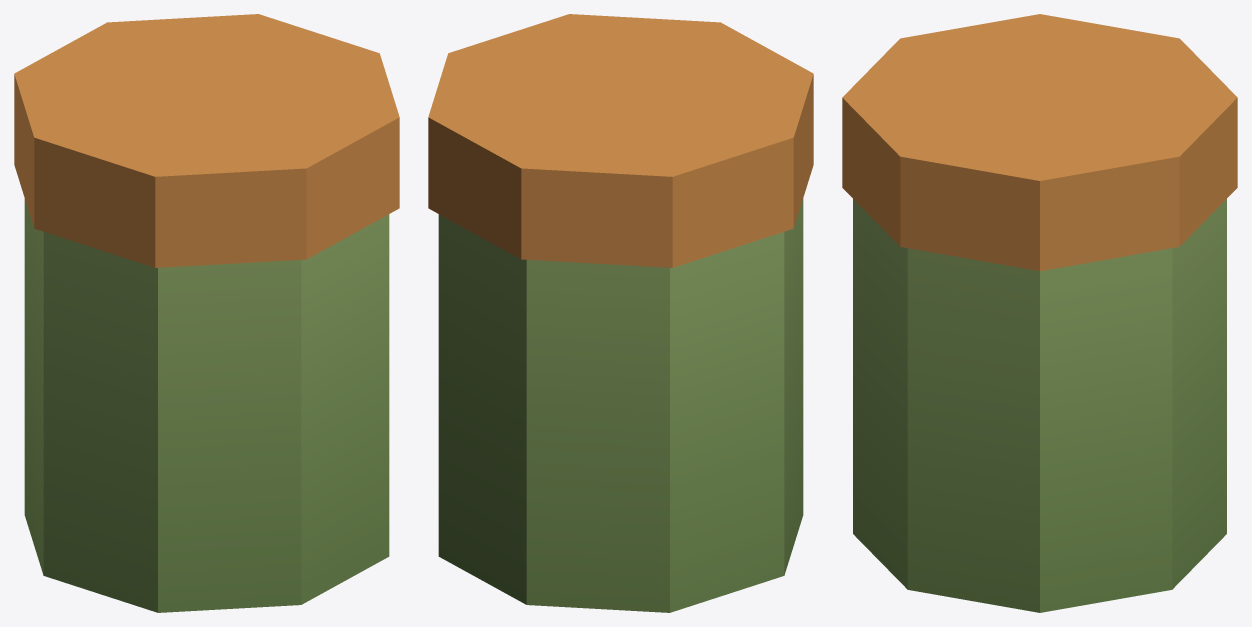
The model's file is KitchenProps_14.fbx.
The picture shows the model from 3 angles, left to right: view 1: azimuth 30°, elevation 25°; view 2: azimuth 150°, elevation 25°; view 3: azimuth 270°, elevation 25°; orthographic projection.
Visible parts, largest first — view 1: KitchenProps_14; view 2: KitchenProps_14; view 3: KitchenProps_14.
Boxes of the visible parts, x1,y1,x2,y2 form: KitchenProps_14: (14, 14, 399, 612); KitchenProps_14: (428, 14, 813, 612); KitchenProps_14: (842, 14, 1237, 612).
Size of the model in its own units: 12.68 by 15.45 by 12.68.
